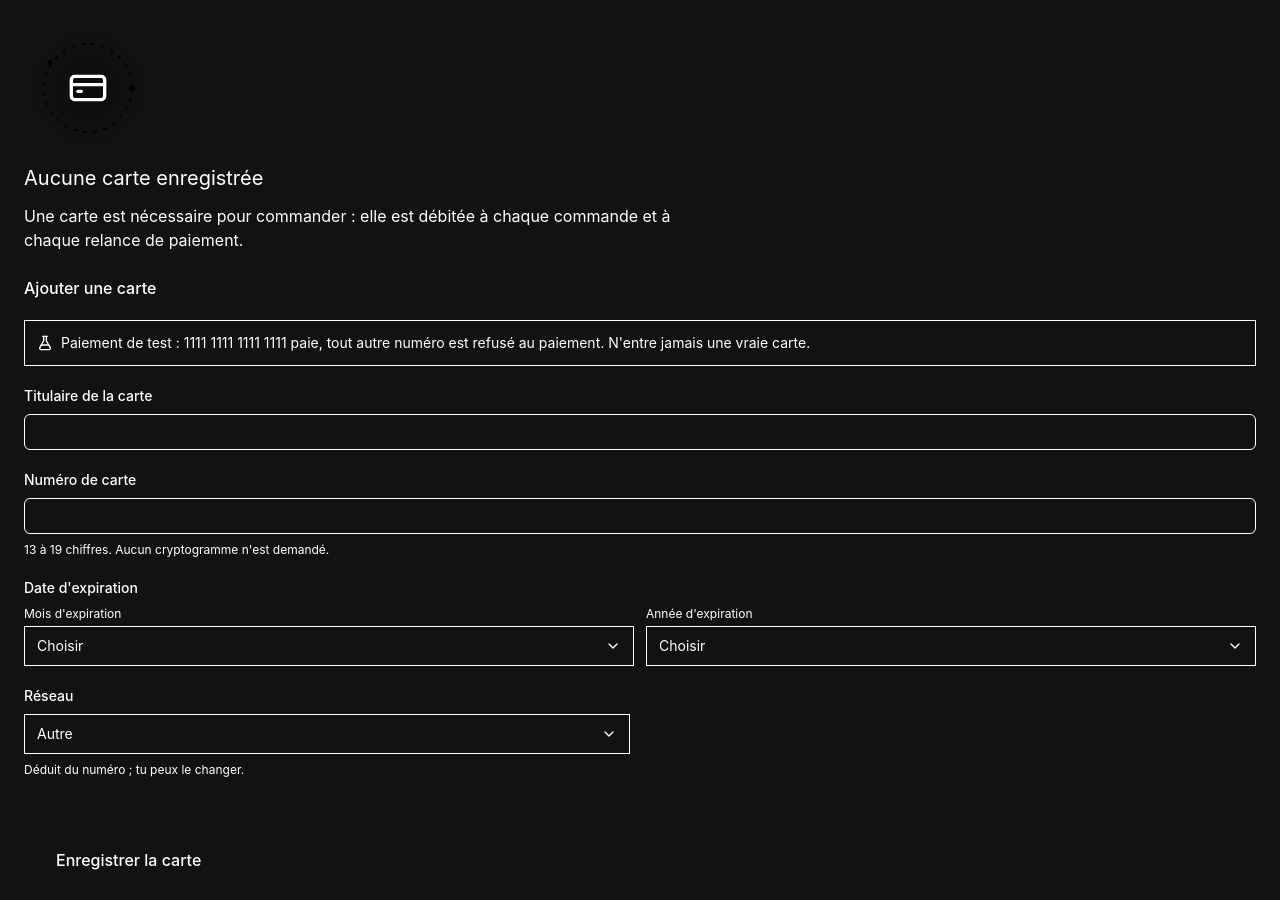
Test: no card › refuses a short number on the field without sending anything
This screenshot has width=1280, height=900.
Type "Camille Testeur" into the field labelled "Titulaire de la carte".
click(640, 432); type("Camille Testeur")  # box x1=24 y1=414 x2=1256 y2=450
Type "111111111111" into the field labelled "Numéro de carte".
click(640, 516); type("111111111111")  # box x1=24 y1=498 x2=1256 y2=534
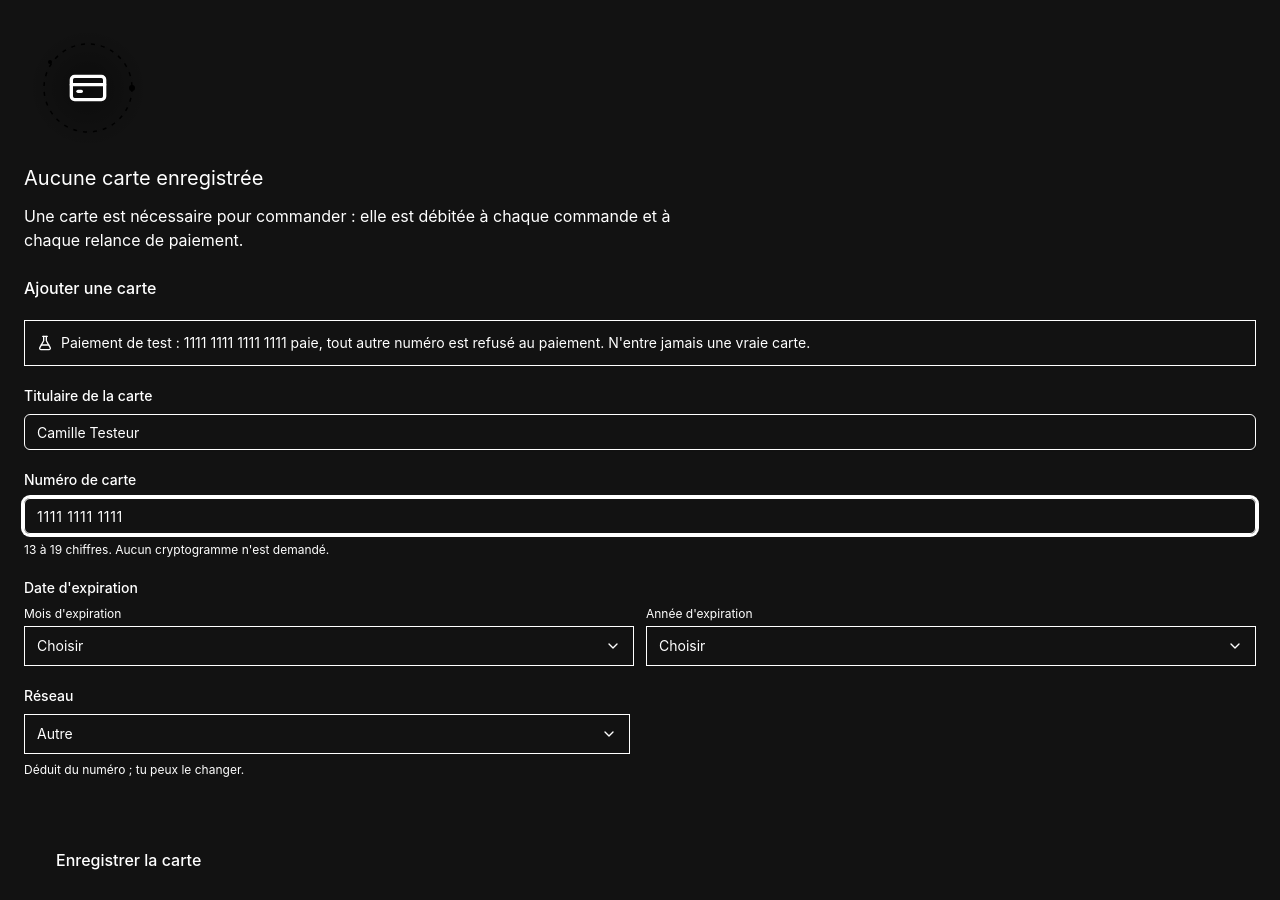
Click the dropdown named "Mois d'expiration".
click(60, 646)  # box x1=24 y1=626 x2=634 y2=666
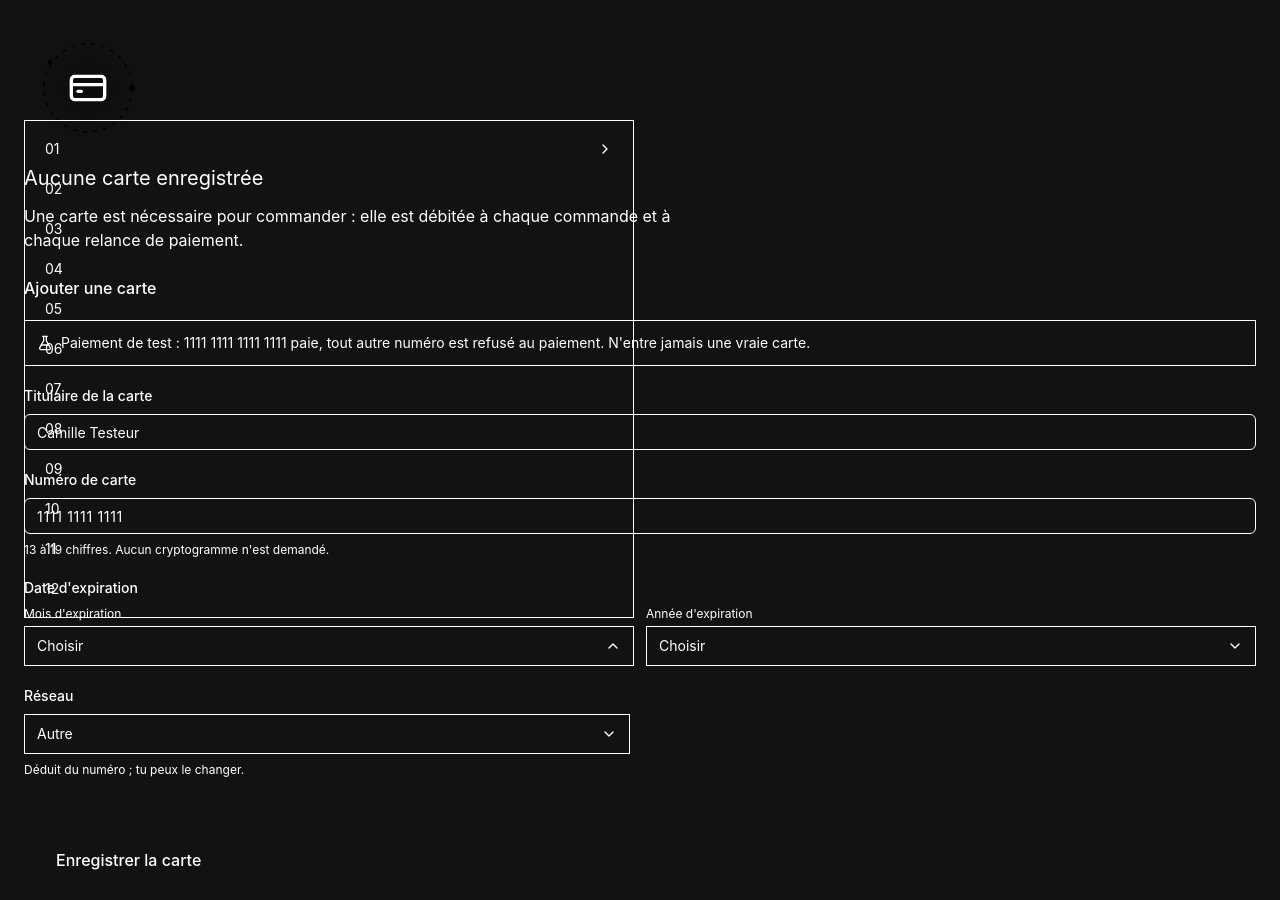
Click the option "12".
click(52, 588)  # box x1=45 y1=580 x2=59 y2=597
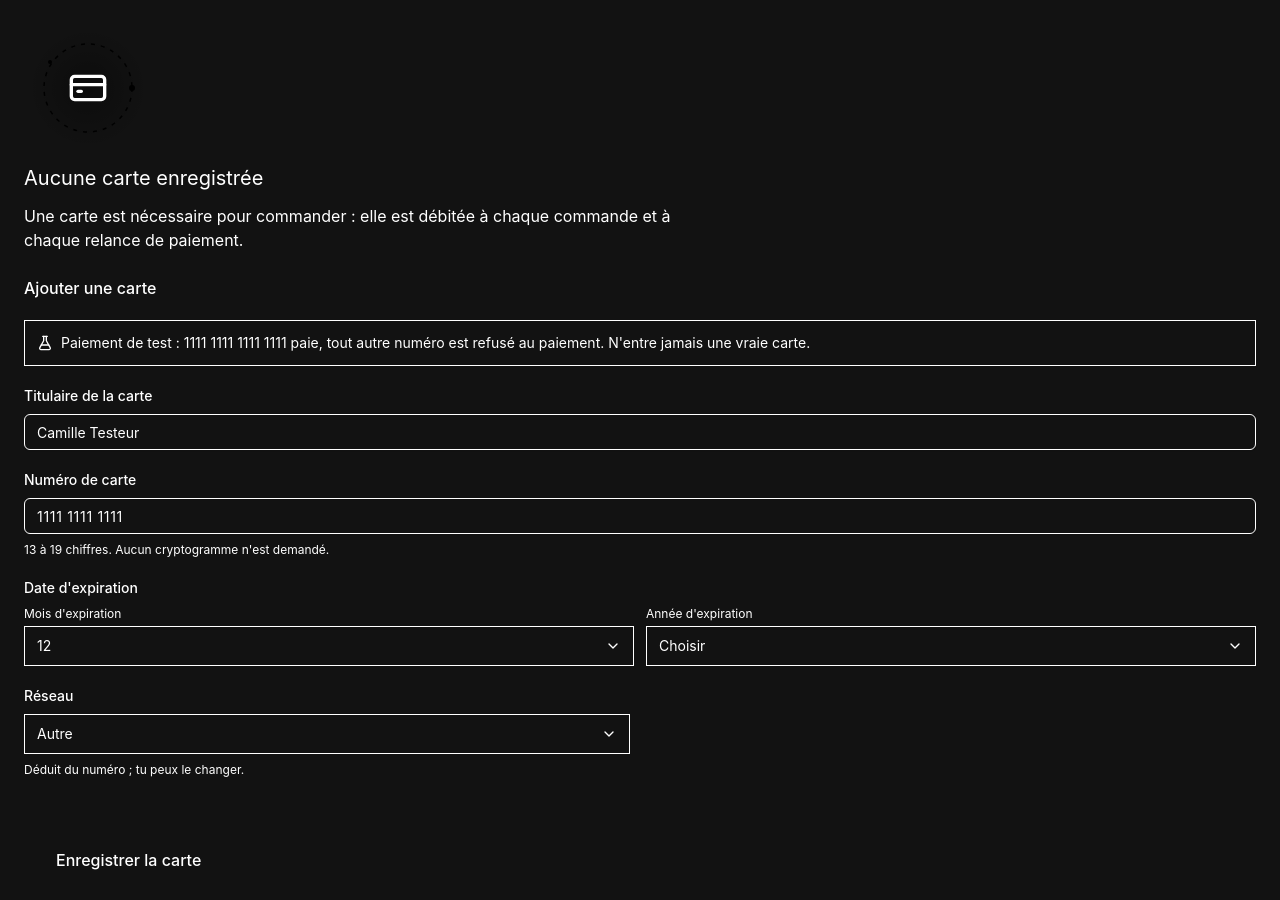
Click the dropdown named "Année d'expiration".
click(682, 646)  # box x1=646 y1=626 x2=1256 y2=666
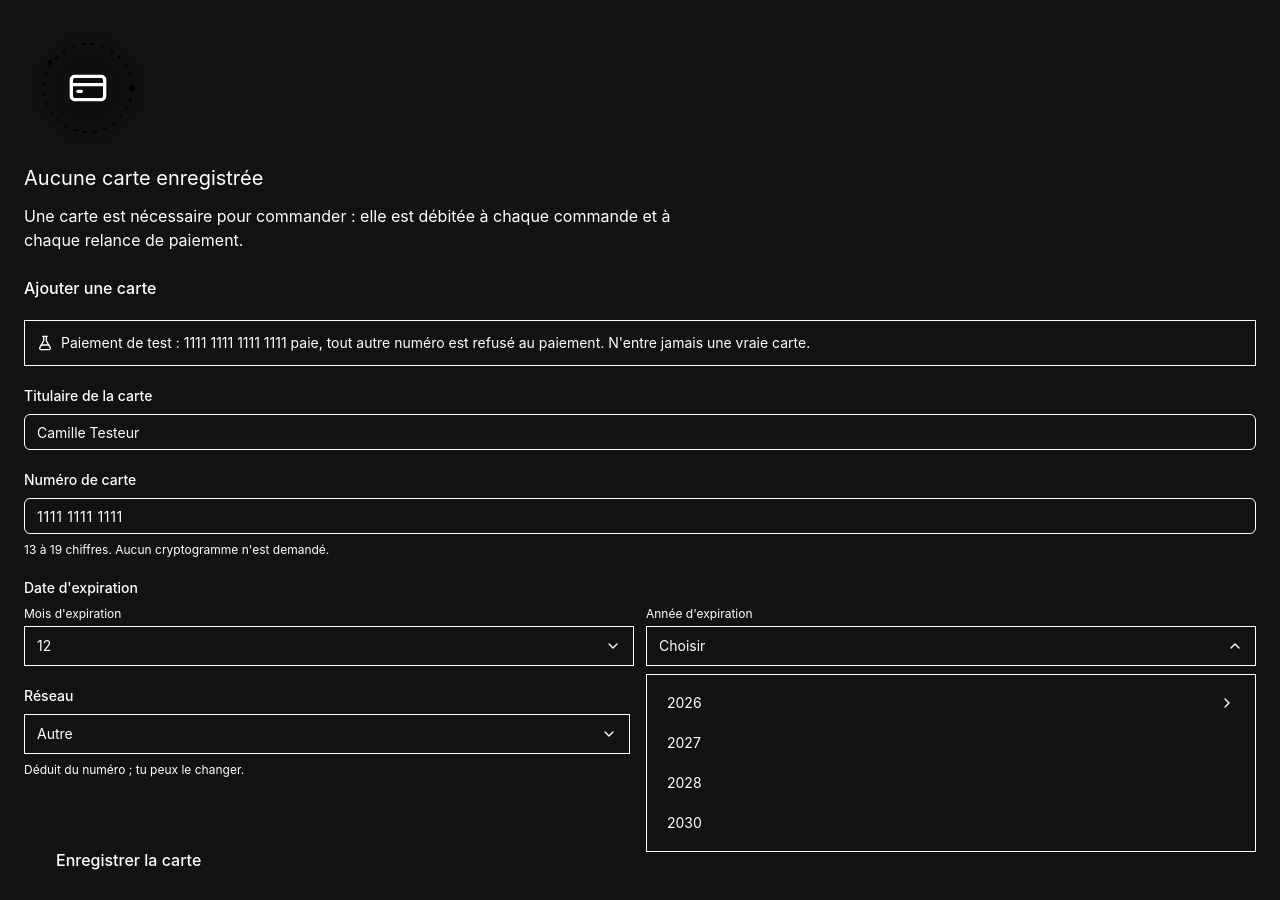
Click the option "2030".
click(684, 822)  # box x1=667 y1=814 x2=702 y2=831
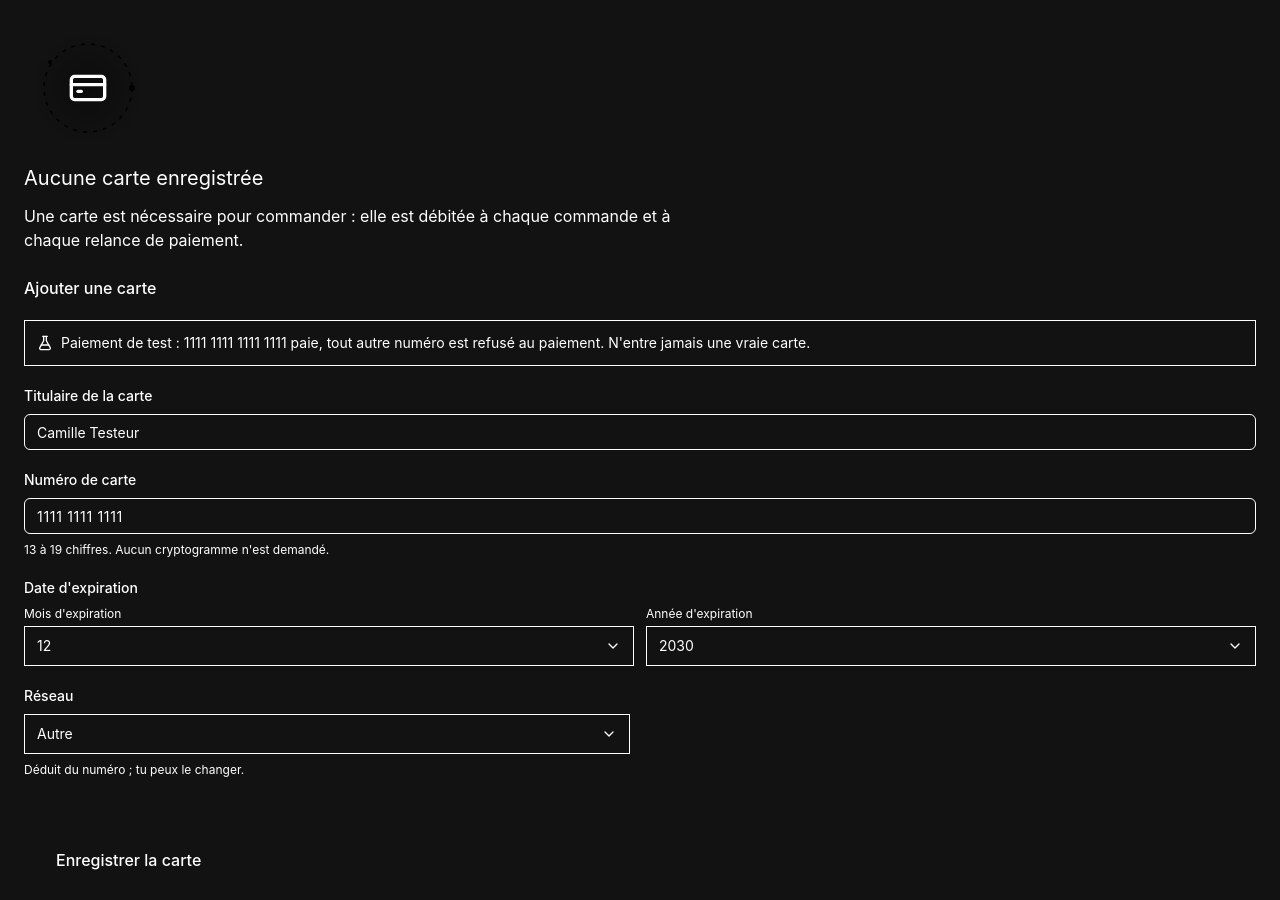
Click the button "Enregistrer la carte".
click(129, 860)  # box x1=24 y1=838 x2=233 y2=882
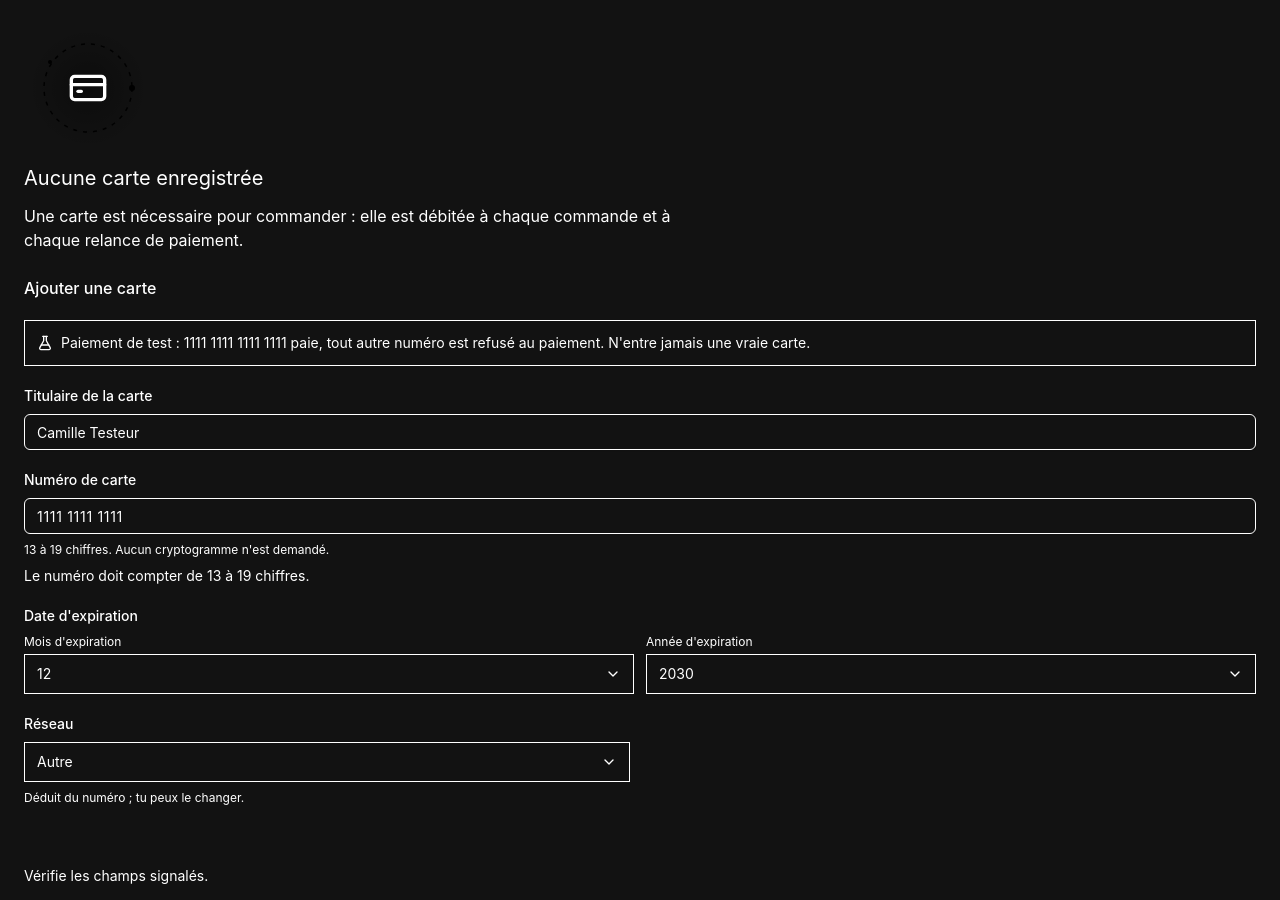
Expected: the text "Le numéro doit compter de 13 à 19 chiffres." is shown, x1=24 y1=567 x2=310 y2=584
